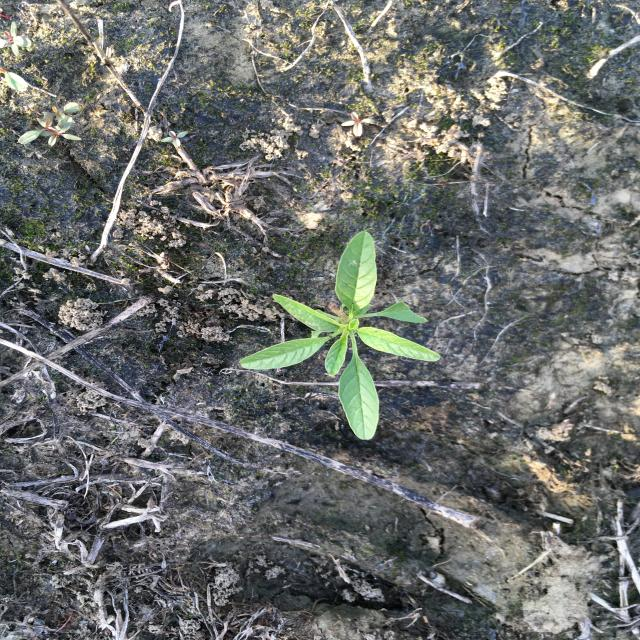Waterhemp: (236, 229, 444, 441)
